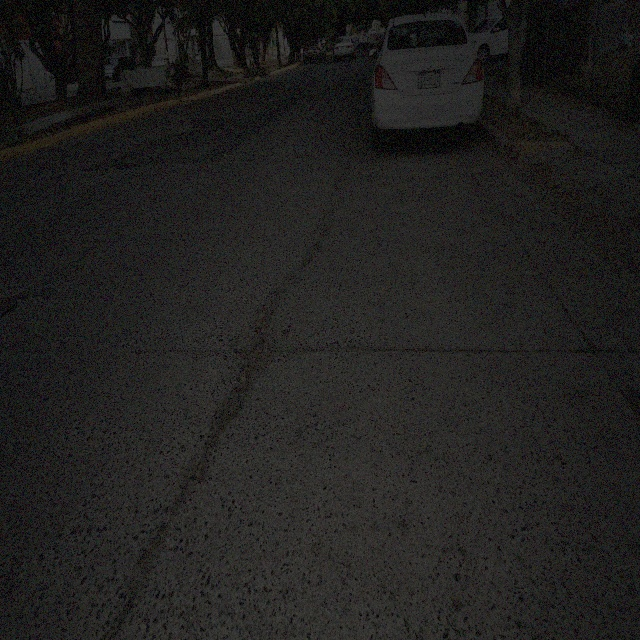pothole: (232, 299, 278, 406), (102, 165, 121, 175)
